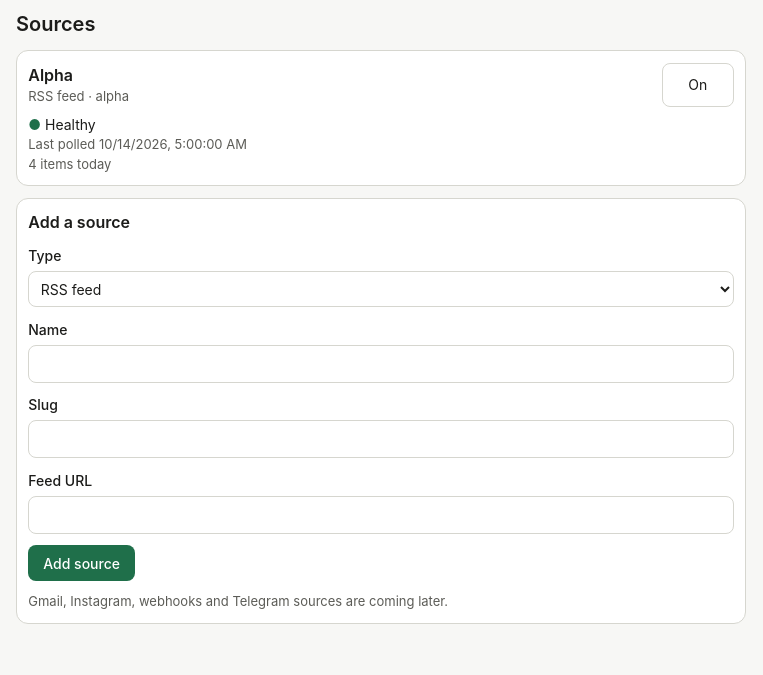
Test: SourceList › rolls the switch back and says so when the patch fails
The image size is (763, 675).
Click the switch named "Alpha" at (698, 84), box top-left (662, 62), bottom-right (734, 106)
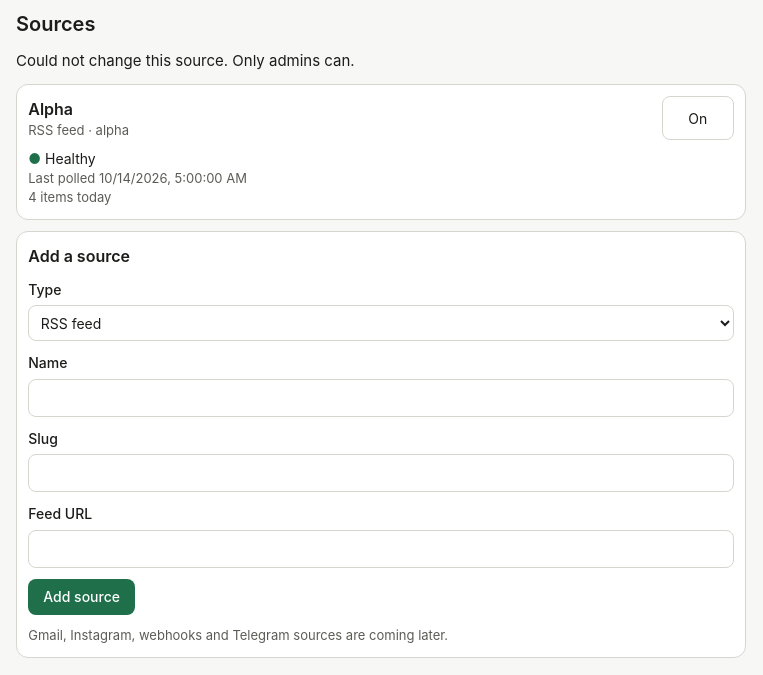
Now the message reads "Could not change this source. Only admins can.", box top-left (16, 51), bottom-right (355, 70)
